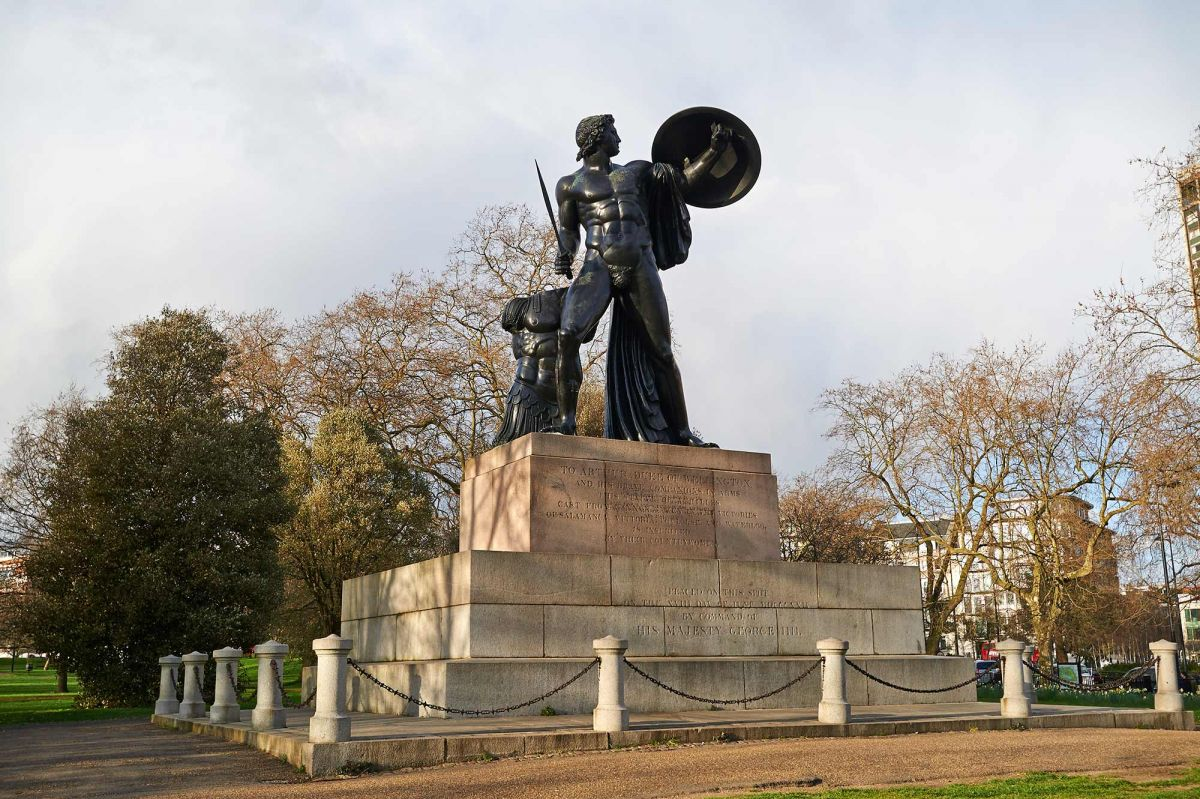person-like: (534, 109, 713, 448)
